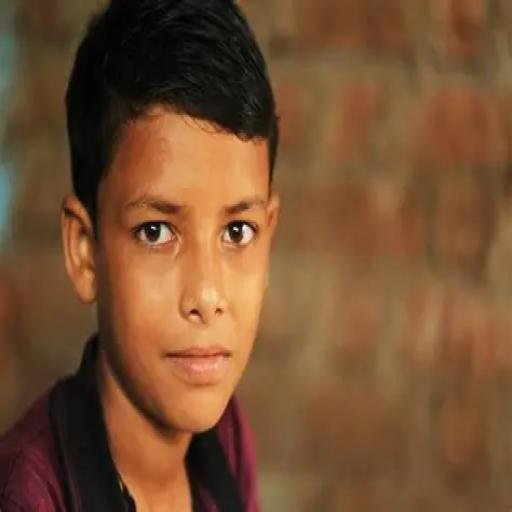person: (0, 0, 282, 512)
